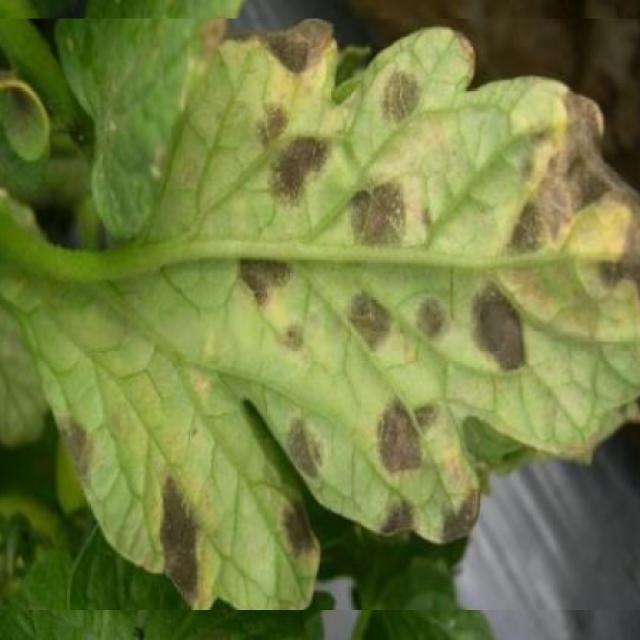Leaf Mold: (0, 19, 640, 611)
